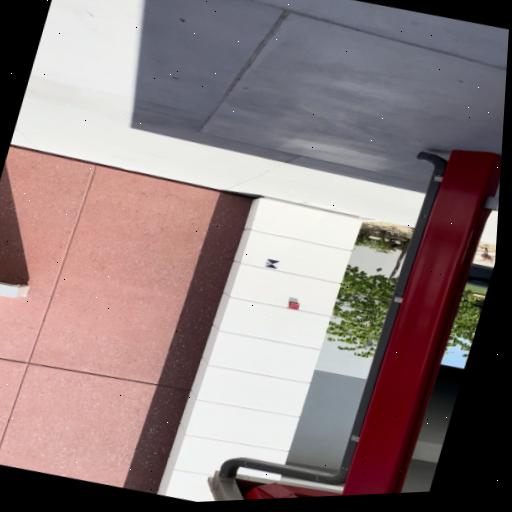target6: (264, 259, 279, 269)
